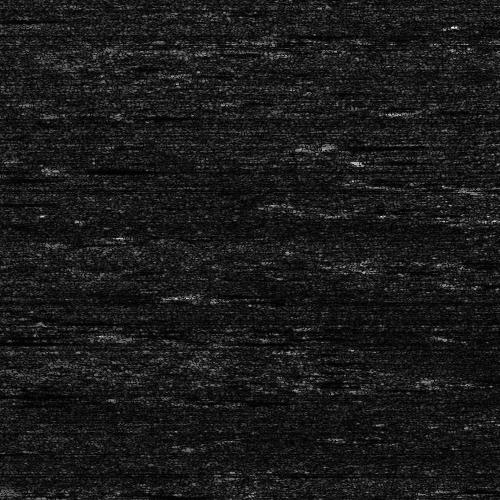rock: (425, 184, 500, 195), (28, 164, 91, 171), (294, 144, 325, 147), (0, 174, 10, 179)
shadow: (60, 164, 141, 171), (310, 144, 403, 147), (0, 334, 25, 345), (483, 184, 500, 195), (0, 174, 31, 179)
